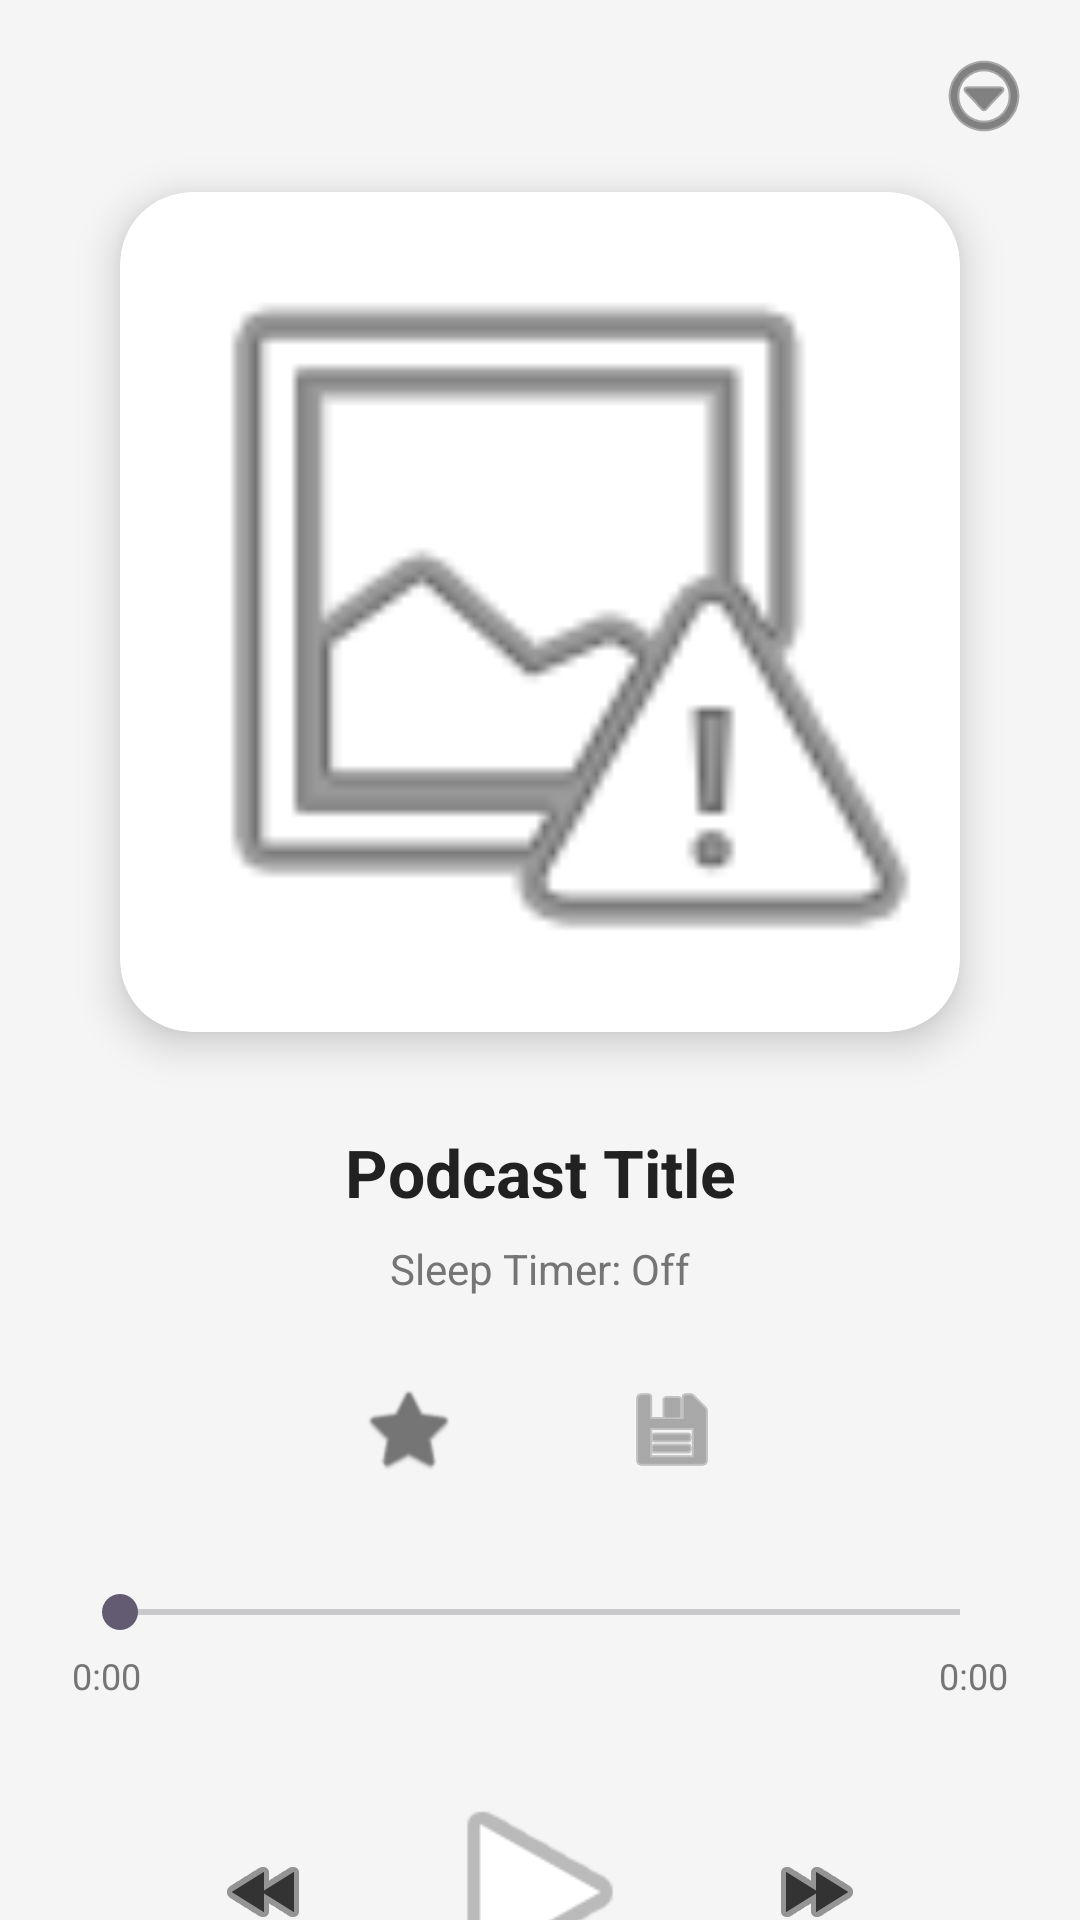

Icons on this 1080*1920 Android screen, each with the point to tap as (x=x, y=y):
more: (x=984, y=96)
save: (x=672, y=1429)
star: (x=409, y=1429)
